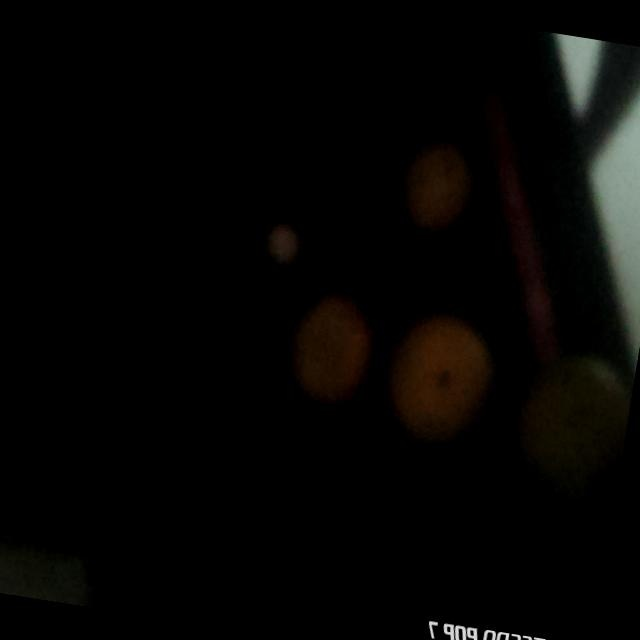agrume: (503, 346, 637, 511), (380, 302, 500, 442), (277, 291, 379, 410), (403, 138, 482, 231)
